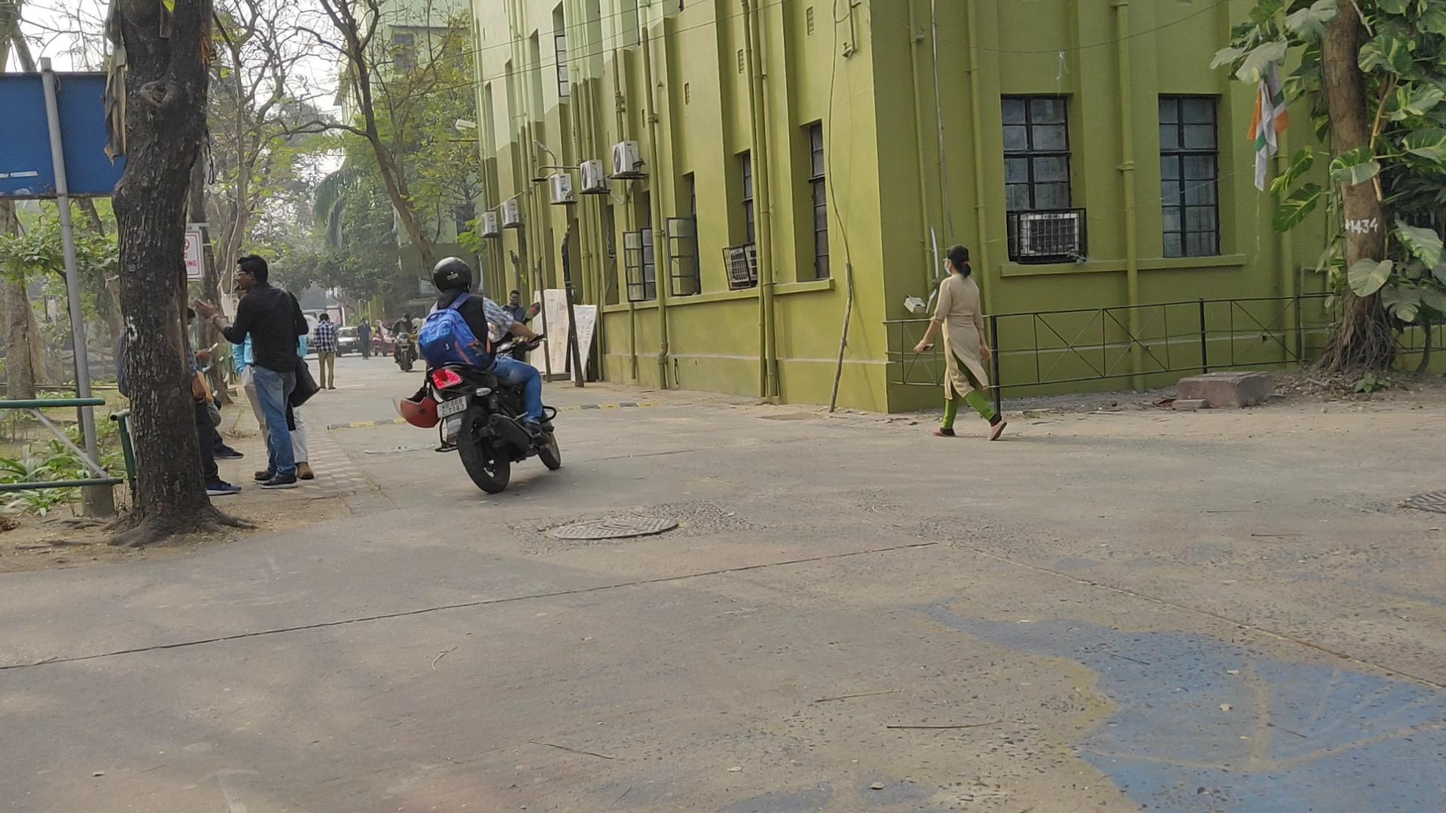bike: (395, 255, 562, 494), (386, 312, 419, 373)
